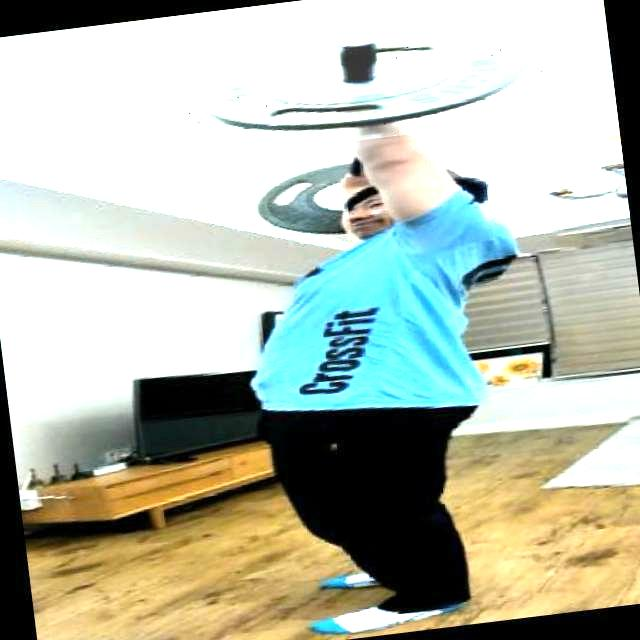barbell: (166, 6, 560, 162)
